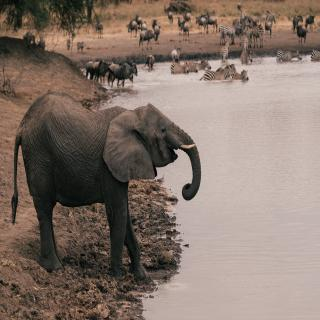Elephant: (9, 89, 203, 282)
